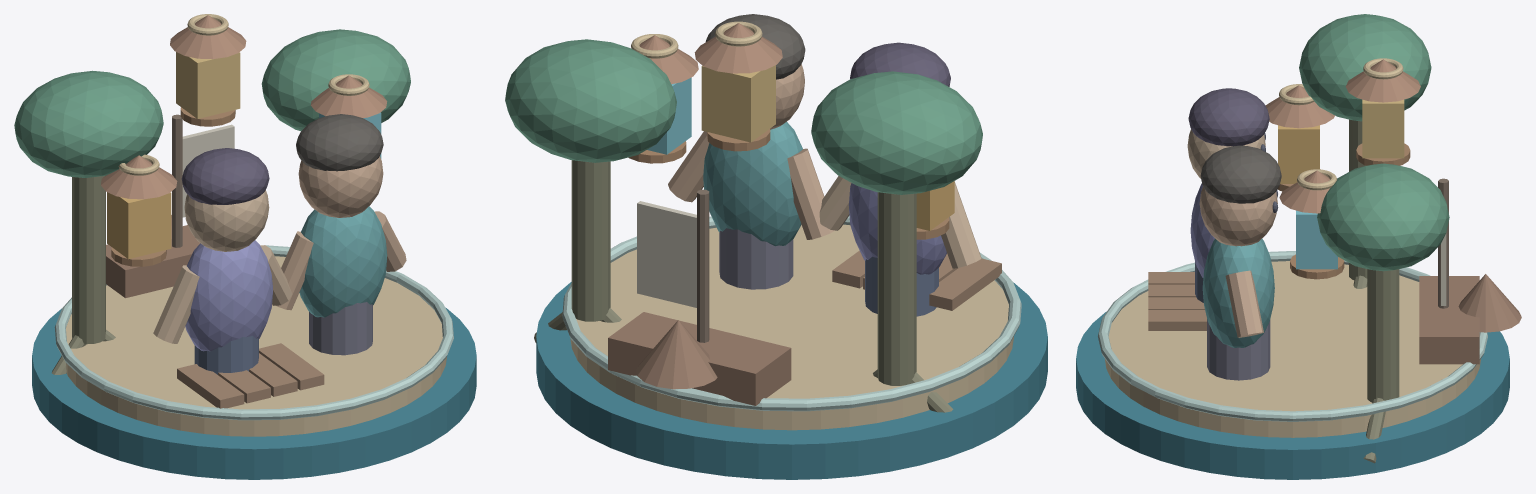
Rendered from lanterns-of-luntian-bay.glb.
The picture shows the model from 3 angles, left to right: view 1: azimuth 30°, elevation 25°; view 2: azimuth 150°, elevation 25°; view 3: azimuth 270°, elevation 25°; orthographic projection. The views are drawn at different scales.
Parts seen in each view (by area): view 1: warm sandy shore, deep teal water base, mangrove crown 0, mangrove crown 1, Tomas torso, Mira torso, white surf edge, mangrove trunk 0, Tomas hair, Mira hair, lantern 0 body, lantern 2 body (+22 smaller); view 2: warm sandy shore, deep teal water base, mangrove crown 0, mangrove crown 1, Tomas torso, boat hull, mangrove trunk 0, white surf edge, mangrove trunk 1, boat sail, lantern 2 body, Tomas legs (+21 smaller); view 3: warm sandy shore, deep teal water base, mangrove crown 1, mangrove crown 0, white surf edge, Tomas torso, boat hull, mangrove trunk 1, Mira hair, Tomas hair, Tomas head, lantern 2 body (+21 smaller).
Part boxes in pixels (x1,y1,x2,y2): warm sandy shore: [61, 256, 446, 436]; deep teal water base: [32, 307, 476, 479]; mangrove crown 0: [14, 70, 163, 177]; mangrove crown 1: [261, 29, 410, 130]; Tomas torso: [299, 206, 387, 317]; Mira torso: [185, 240, 272, 351]; white surf edge: [54, 245, 453, 420]; mangrove trunk 0: [72, 176, 105, 344]; Tomas hair: [296, 114, 383, 171]; Mira hair: [181, 148, 269, 204]; lantern 0 body: [107, 192, 171, 259]; lantern 2 body: [176, 52, 240, 118]; warm sandy shore: [570, 224, 1013, 430]; deep teal water base: [536, 282, 1047, 479]; mangrove crown 0: [811, 71, 982, 194]; mangrove crown 1: [505, 39, 676, 162]; Tomas torso: [703, 121, 802, 246]; boat hull: [608, 312, 791, 405]; mangrove trunk 0: [877, 192, 916, 385]; white surf edge: [562, 215, 1021, 411]; mangrove trunk 1: [571, 160, 610, 321]; boat sail: [637, 201, 696, 307]; lantern 2 body: [701, 65, 775, 142]; Tomas legs: [719, 228, 793, 289]; warm sandy shore: [1105, 261, 1480, 437]; deep teal water base: [1076, 311, 1509, 479]; mangrove crown 1: [1317, 163, 1449, 271]; mangrove crown 0: [1299, 14, 1431, 121]; white surf edge: [1098, 251, 1487, 421]; Tomas torso: [1202, 238, 1274, 347]; boat hull: [1419, 276, 1479, 364]; mangrove trunk 1: [1367, 269, 1399, 402]; Mira hair: [1188, 88, 1269, 146]; Tomas hair: [1200, 145, 1281, 203]; Tomas head: [1199, 186, 1277, 246]; lantern 2 body: [1362, 99, 1404, 158].
Size of the model in its own units: 0.7592 by 0.6266 by 0.7696.
